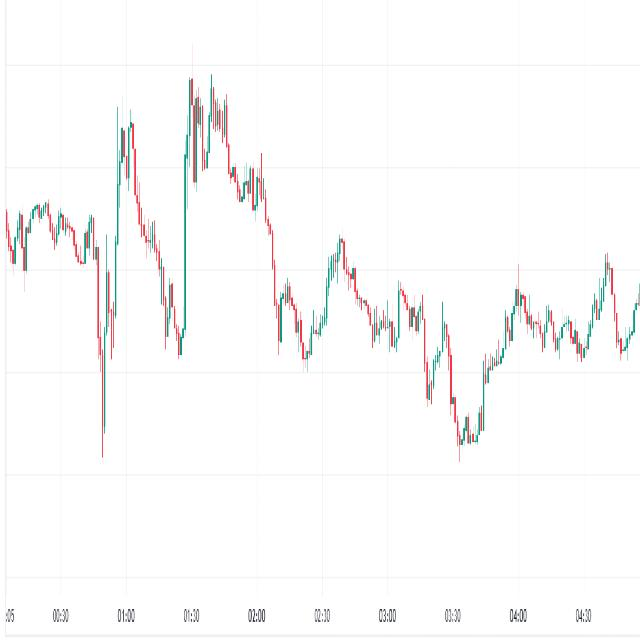Head-Shoulders: (179, 38, 277, 305)
